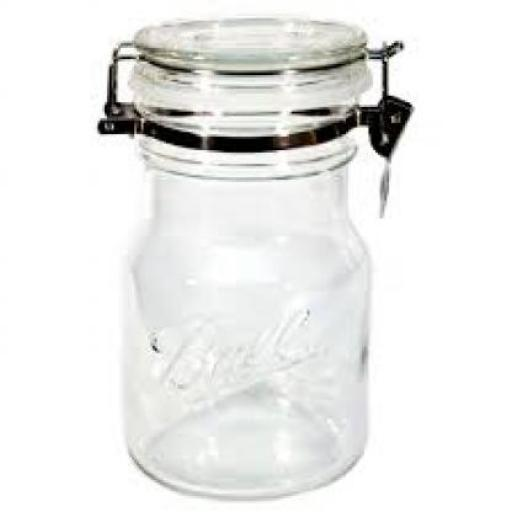glass: (125, 18, 366, 496)
